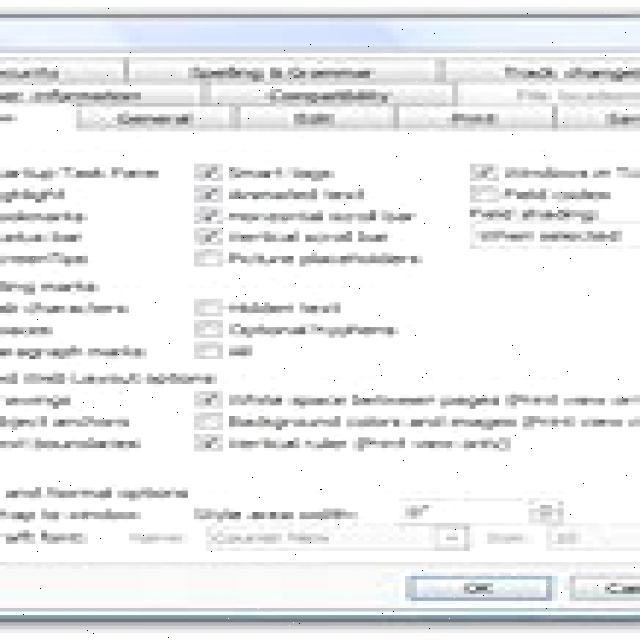button: (400, 569, 553, 602), (466, 223, 640, 250), (540, 523, 640, 551), (567, 570, 640, 601)
checkbox: (190, 410, 226, 432), (191, 431, 225, 454), (189, 318, 226, 339), (189, 340, 226, 361), (190, 204, 225, 226), (191, 246, 226, 268), (190, 225, 226, 245), (191, 183, 225, 204), (191, 388, 223, 410), (467, 161, 500, 182), (190, 296, 223, 317), (192, 162, 225, 182), (465, 185, 502, 202)
dropdownMenu: (205, 519, 473, 552)
label: (226, 391, 640, 406), (226, 414, 640, 429), (226, 434, 519, 454), (224, 247, 430, 270), (226, 206, 425, 227), (0, 366, 223, 384), (224, 225, 397, 247), (228, 322, 410, 340), (224, 182, 374, 203), (0, 299, 141, 320), (0, 160, 164, 178), (0, 485, 196, 500), (0, 343, 158, 361), (466, 204, 640, 220), (0, 434, 149, 452), (0, 412, 137, 431), (501, 162, 640, 180), (0, 247, 112, 269), (188, 506, 363, 520), (0, 506, 147, 521), (226, 299, 345, 317), (226, 162, 342, 180), (502, 187, 640, 202), (0, 527, 91, 547), (0, 181, 82, 203), (0, 278, 103, 295), (0, 390, 78, 412), (0, 227, 90, 246), (0, 206, 94, 224), (0, 320, 66, 343), (119, 531, 194, 548), (226, 343, 258, 356)
tabControl: (0, 54, 640, 143)
upDown: (394, 494, 568, 524)
